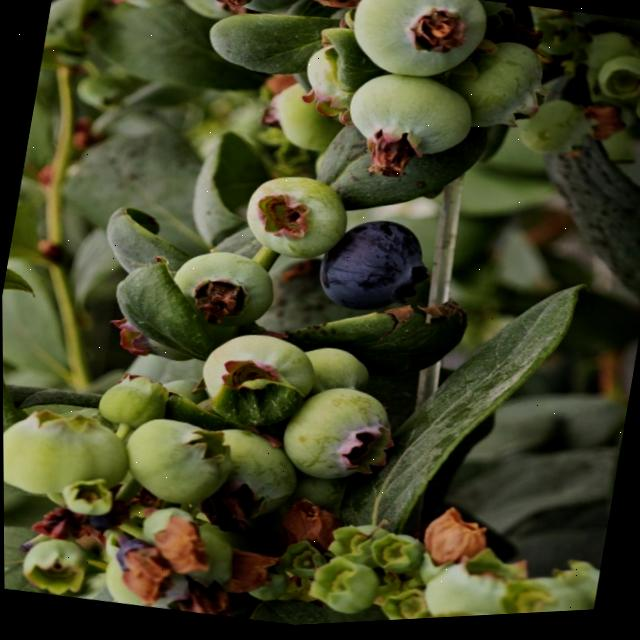RipeBlueBerry: (312, 211, 433, 325)
UnripeBlueBerry: (339, 65, 479, 177), (2, 396, 136, 510), (275, 378, 401, 493), (117, 409, 237, 516), (196, 324, 321, 423), (237, 168, 352, 270), (165, 243, 278, 339)
